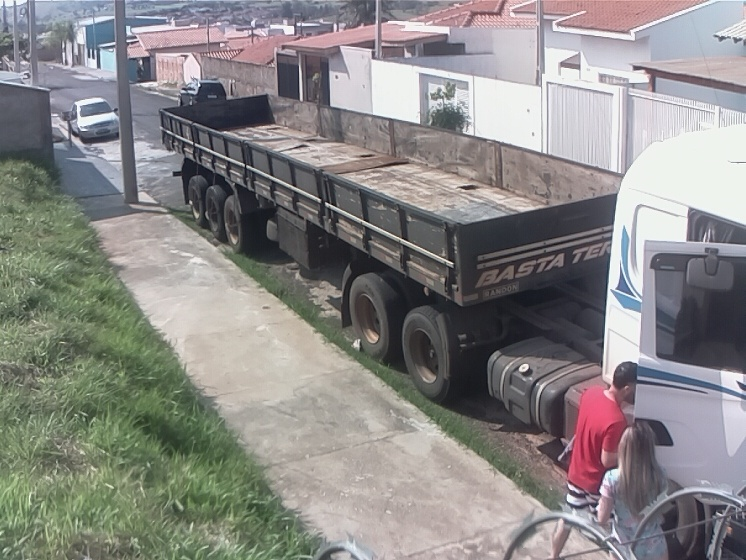person: (547, 361, 642, 560), (596, 422, 672, 560)
